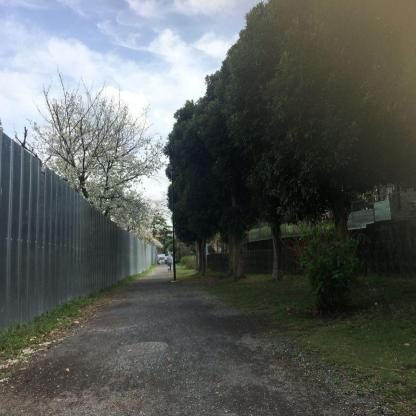Someiyoshino: (18, 60, 182, 254)
